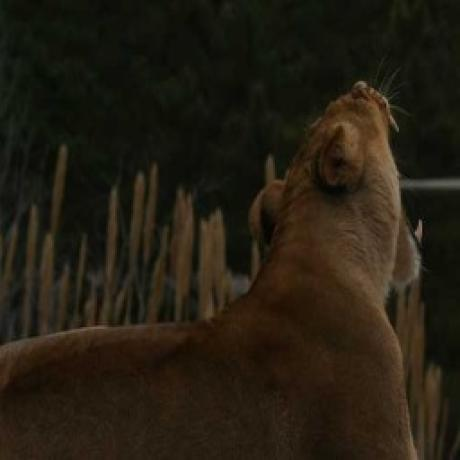Lion: (0, 75, 430, 460)
